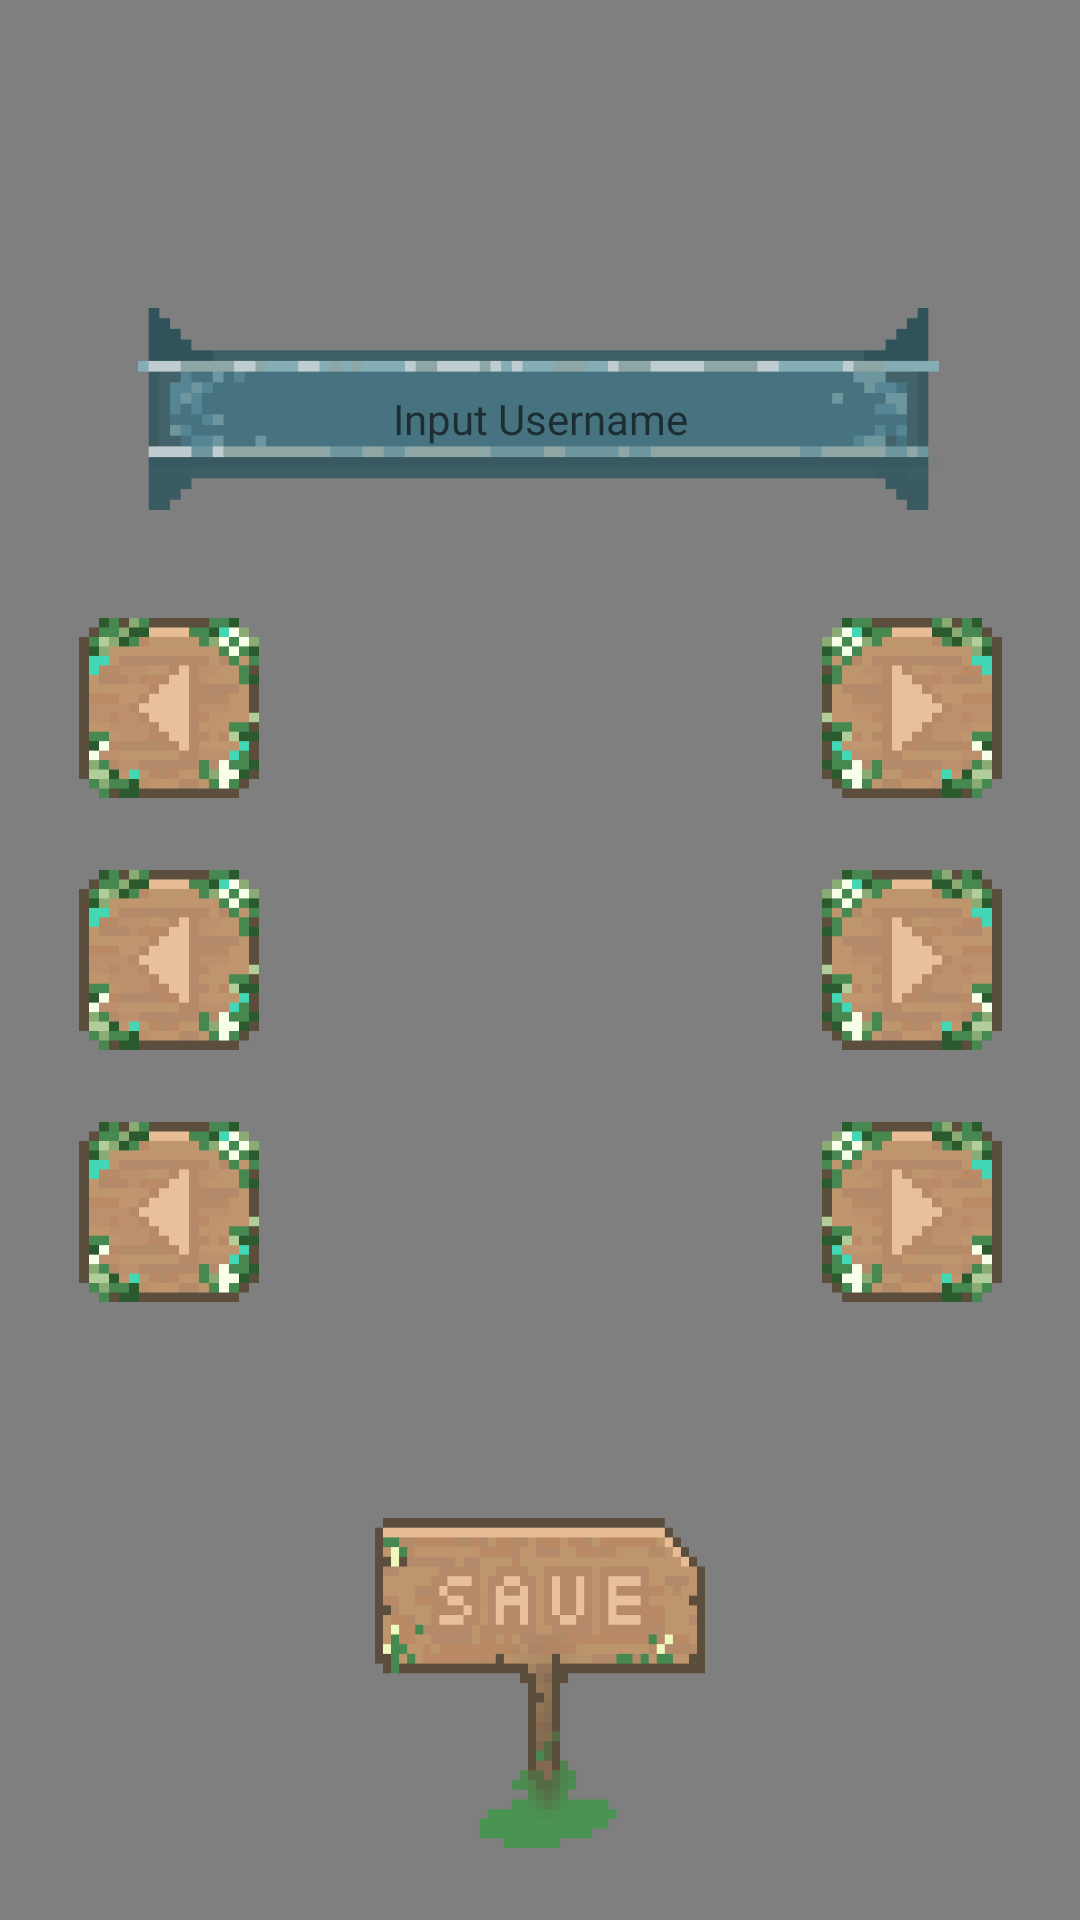

Named icons in this screenshot (1080px×1920px) and their bounding boxes, (x1, y1, x2, y2):
leftarrow: (79, 618, 259, 798), (79, 870, 259, 1050), (79, 1122, 259, 1302)
rightarrow: (822, 618, 1002, 798), (822, 870, 1002, 1050), (822, 1122, 1002, 1302)
